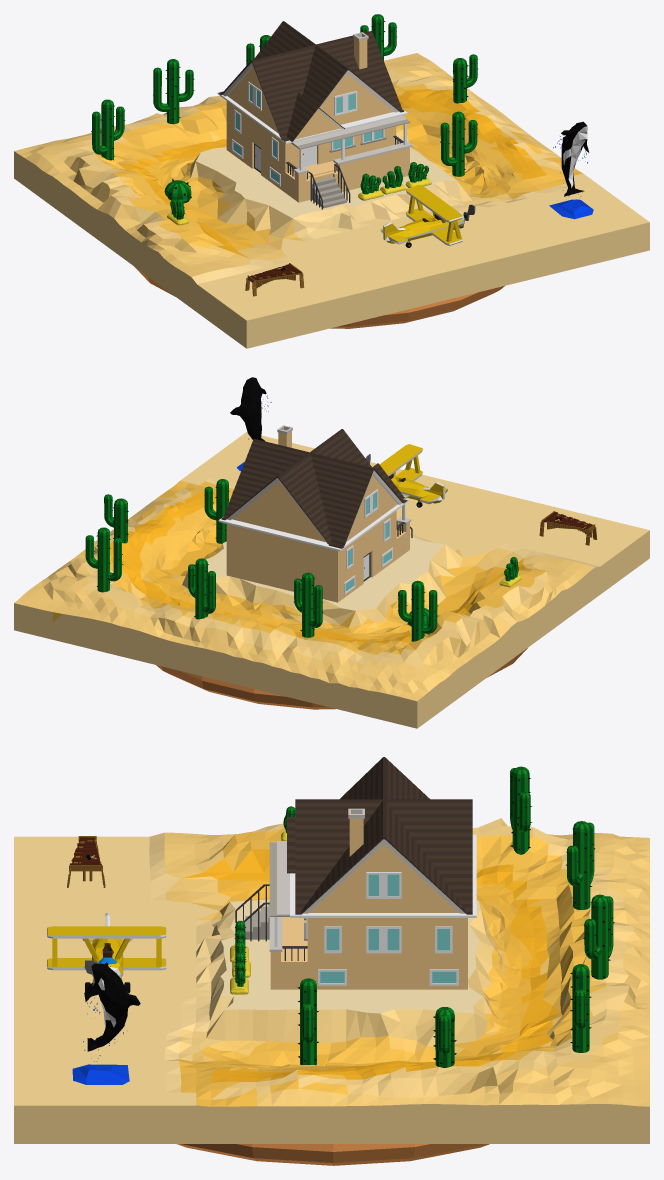
The picture shows the model from 3 angles, top to bottom: view 1: azimuth 30°, elevation 25°; view 2: azimuth 150°, elevation 25°; view 3: azimuth 270°, elevation 25°; orthographic projection. The views are drawn at different scales.
Parts seen in each view (by area): view 1: Cube.001, Cube.235, VEHICLES_AIRPLANE, ANIMAL_ORCA, UNDERGROUND_PIZZA, Cylinder.044, Cylinder.037, Cylinder.045, Cylinder.038, OBJRANDOM_MARIMBA, Cylinder.042, Cylinder.039 (+1 smaller); view 2: Cube.001, Cube.235, UNDERGROUND_PIZZA, VEHICLES_AIRPLANE, Cylinder.042, Cylinder.045, Cylinder.044, Cylinder.043, ANIMAL_ORCA, Cylinder.037, Cylinder.038, OBJRANDOM_MARIMBA; view 3: Cube.001, Cube.235, UNDERGROUND_PIZZA, VEHICLES_AIRPLANE, ANIMAL_ORCA, Cylinder.043, Cylinder.044, Cylinder.045, Cylinder.042, Cylinder.037, Cylinder.038, OBJRANDOM_MARIMBA (+1 smaller).
Part boxes in pixels (x1,y1,x2,y2): Cube.001: [14, 53, 649, 348]; Cube.235: [217, 21, 412, 209]; VEHICLES_AIRPLANE: [380, 185, 475, 247]; ANIMAL_ORCA: [549, 121, 593, 219]; UNDERGROUND_PIZZA: [134, 266, 504, 328]; Cylinder.044: [153, 59, 194, 124]; Cylinder.037: [440, 111, 477, 176]; Cylinder.045: [91, 99, 125, 160]; Cylinder.038: [453, 54, 477, 103]; OBJRANDOM_MARIMBA: [245, 263, 304, 296]; Cylinder.042: [360, 14, 396, 60]; Cylinder.039: [358, 173, 383, 200]; Cube.001: [14, 432, 649, 728]; Cube.235: [218, 425, 412, 602]; UNDERGROUND_PIZZA: [156, 648, 527, 709]; VEHICLES_AIRPLANE: [365, 444, 447, 507]; Cylinder.042: [85, 527, 122, 592]; Cylinder.045: [397, 580, 438, 641]; Cylinder.044: [294, 572, 322, 637]; Cylinder.043: [188, 558, 215, 619]; ANIMAL_ORCA: [230, 377, 271, 470]; Cylinder.037: [204, 479, 233, 543]; Cylinder.038: [104, 494, 128, 543]; OBJRANDOM_MARIMBA: [539, 511, 597, 545]; Cube.001: [14, 818, 649, 1143]; Cube.235: [235, 757, 476, 989]; UNDERGROUND_PIZZA: [177, 1144, 489, 1165]; VEHICLES_AIRPLANE: [47, 913, 166, 993]; ANIMAL_ORCA: [72, 962, 140, 1084]; Cylinder.043: [583, 894, 614, 979]; Cylinder.044: [566, 821, 595, 909]; Cylinder.045: [510, 766, 531, 854]; Cylinder.042: [570, 964, 591, 1052]; Cylinder.037: [297, 978, 318, 1065]; Cylinder.038: [433, 1007, 456, 1067]; OBJRANDOM_MARIMBA: [67, 836, 105, 887].
Bounding box in the file's own units: 4002 × 1839 × 4001.
Materials: 41 (2 with a texture image).
